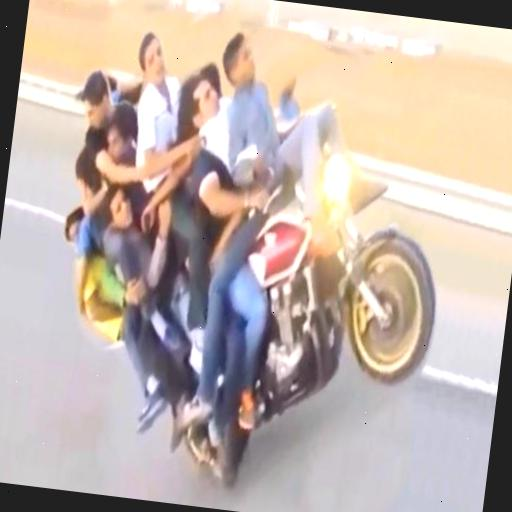no helmet: (144, 58, 260, 199)
triple riding: (30, 10, 468, 512)
